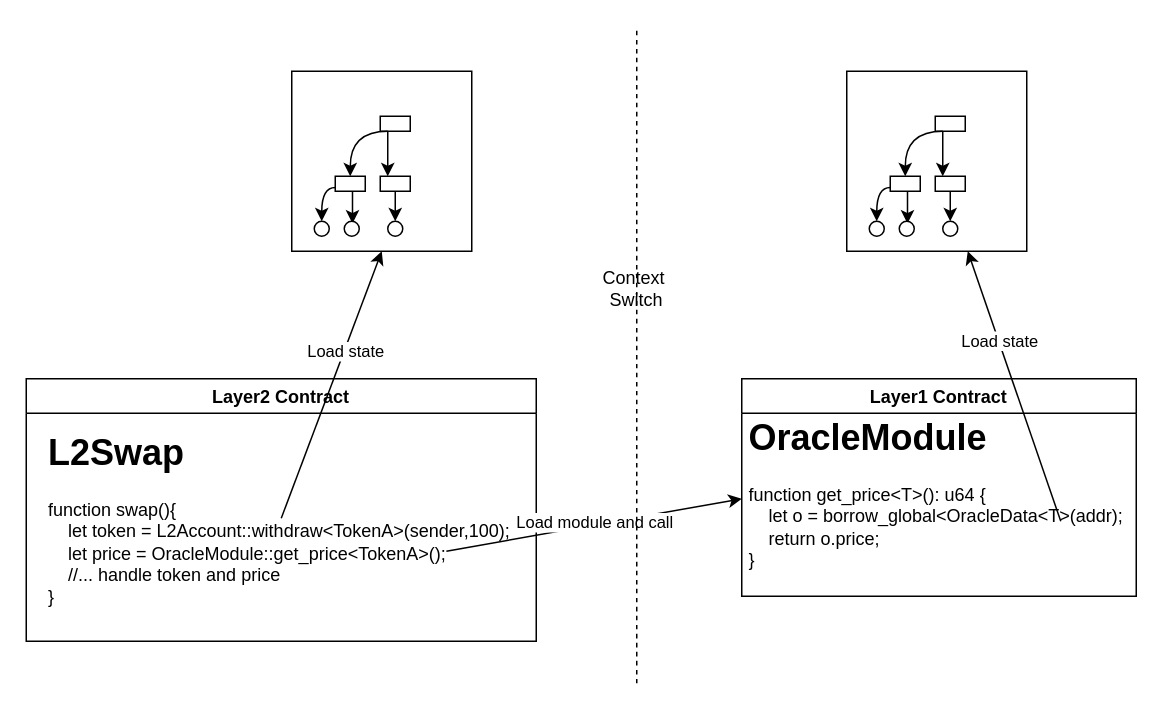
This 1163x711 diagram has some shape labels left out. Each missing label, with the centre of its shape:
"Layer1 state tree" belongs at pixel 936 160.
"Layer2 state tree" belongs at pixel 381 160.
